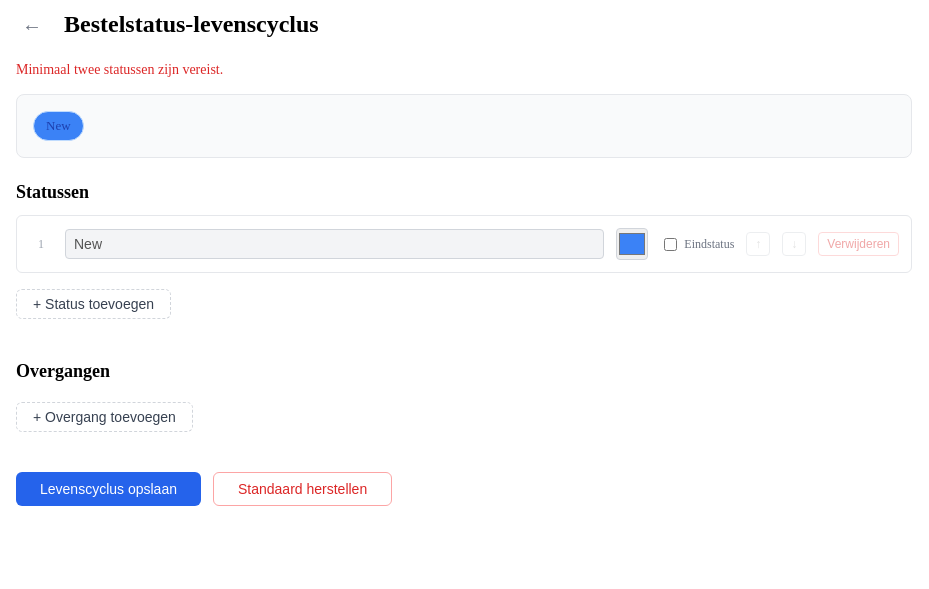
ShopOrderLifecycle › Add Status button adds a new row to the form
This screenshot has width=929, height=589.
expect the field showing "New" is shown: met, box [65,229,604,259]
# Click the Add Status button (label: "+ Status toevoegen")
Step 1. Click the button "+ Status toevoegen" → (94, 304), box [16,289,171,319]
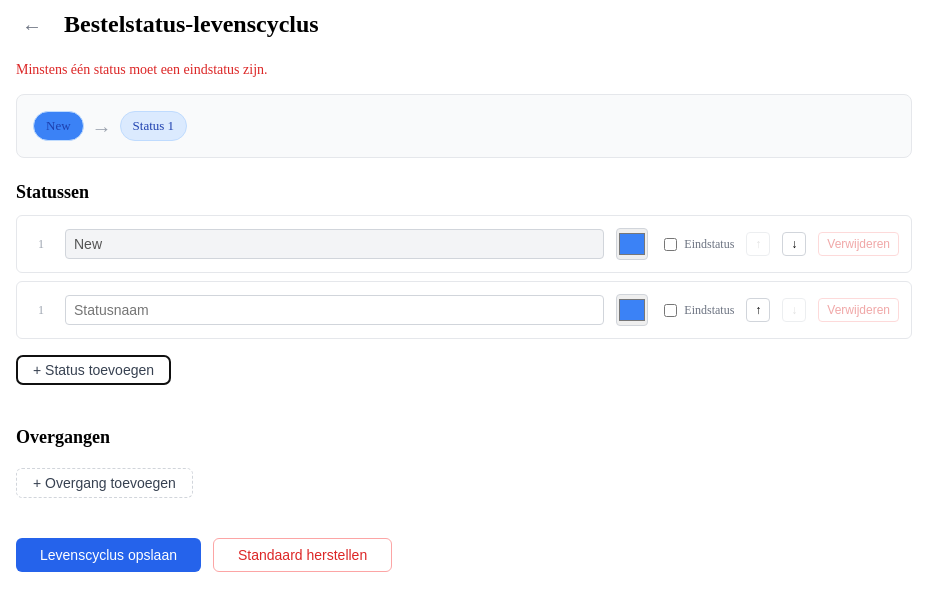
expect the number of fields with placeholder "Statusnaam" is 2: met, box [65,229,604,259]; [65,295,604,325]
